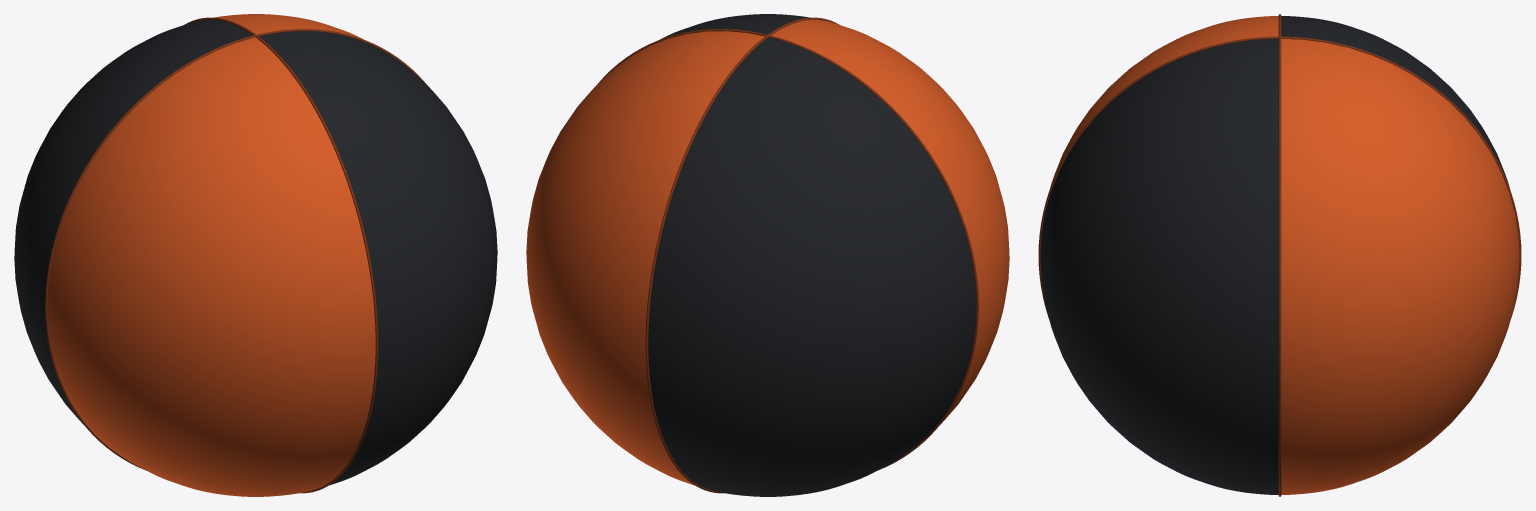
The model's file is jug-ball.glb.
The picture shows the model from 3 angles, left to right: view 1: azimuth 30°, elevation 25°; view 2: azimuth 150°, elevation 25°; view 3: azimuth 270°, elevation 25°; orthographic projection.
Parts seen in each view (by area): view 1: JUG / Four-panel practice ball, Panel seam X, Panel seam Y; view 2: JUG / Four-panel practice ball, Panel seam X, Panel seam Y; view 3: JUG / Four-panel practice ball, Panel seam Y, Panel seam X.
Part boxes in pixels (x1,y1,x2,y2): JUG / Four-panel practice ball: (14,14,497,496); Panel seam X: (45,29,425,470); Panel seam Y: (184,17,378,493); JUG / Four-panel practice ball: (526,14,1009,496); Panel seam X: (598,29,978,470); Panel seam Y: (645,17,839,493); JUG / Four-panel practice ball: (1040,16,1519,494); Panel seam Y: (1038,36,1521,318); Panel seam X: (1278,14,1281,496).
Size of the model in its own units: 2.01 by 2.01 by 2.01.
